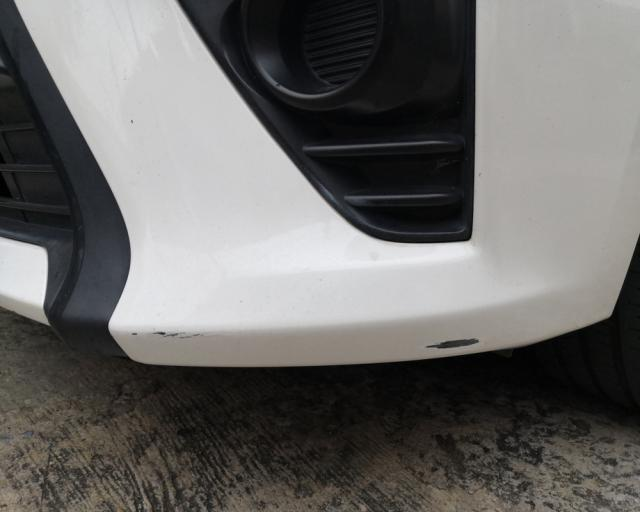scratch: (131, 328, 220, 340), (422, 336, 484, 350)
